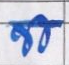i_matra: (33, 14, 47, 52)
